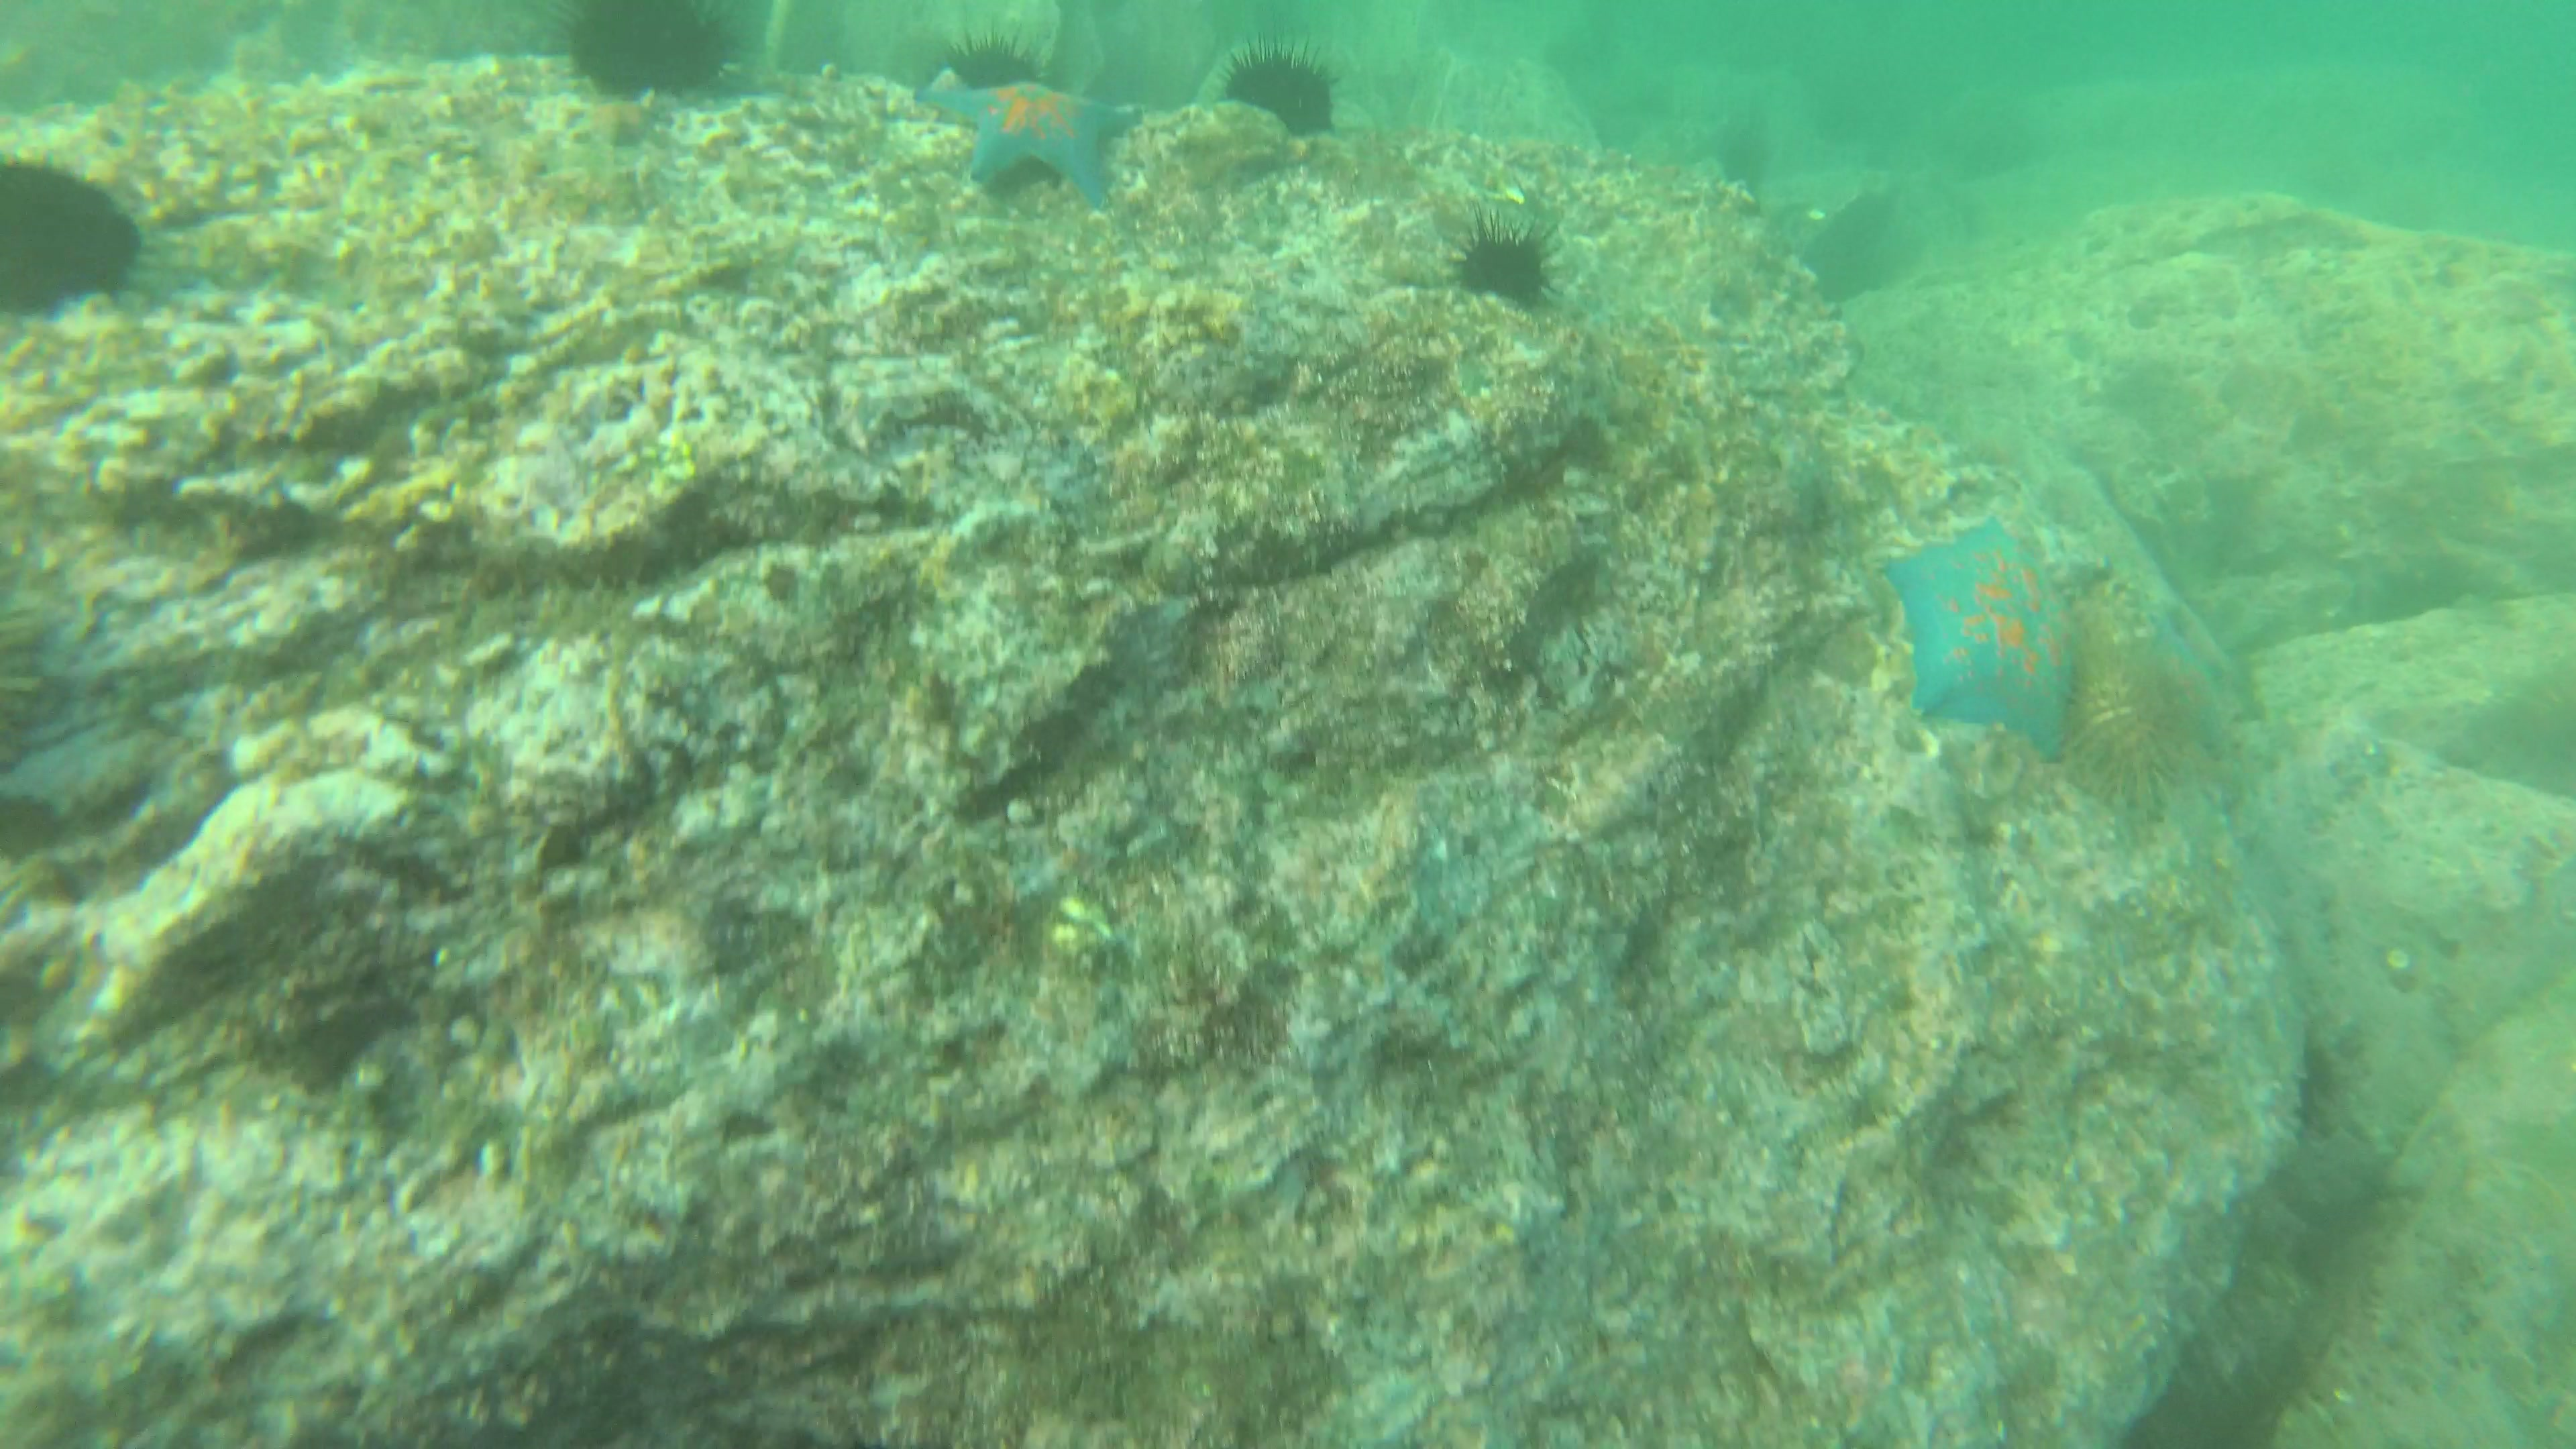echinus: (2061, 639, 2199, 805), (550, 0, 754, 104), (9, 156, 134, 303), (1214, 53, 1330, 126), (1449, 212, 1546, 297), (947, 30, 1051, 87)
starfish: (1868, 506, 2097, 750), (970, 73, 1127, 200)
